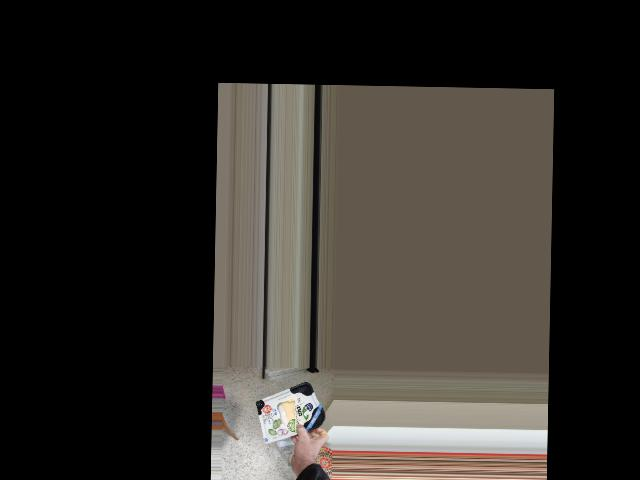cheese: (255, 385, 328, 434)
